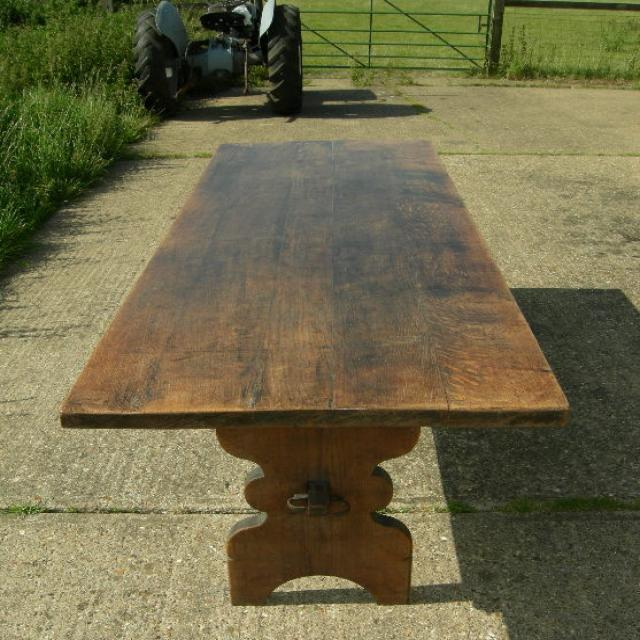table: (61, 138, 576, 611)
